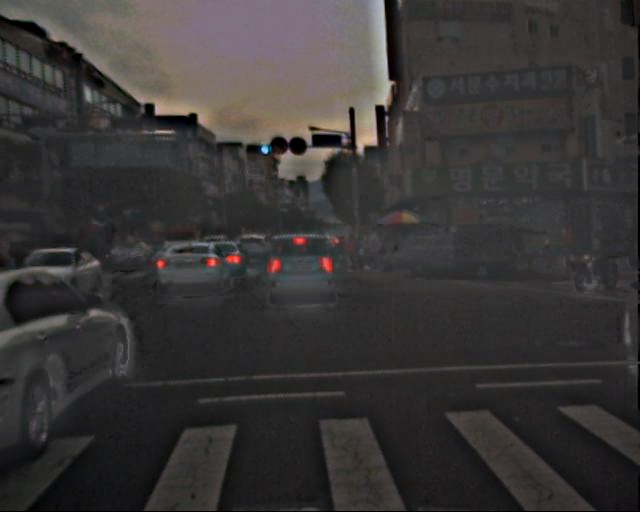person: (346, 229, 402, 276), (585, 236, 607, 289), (558, 225, 576, 269), (539, 232, 556, 274)
